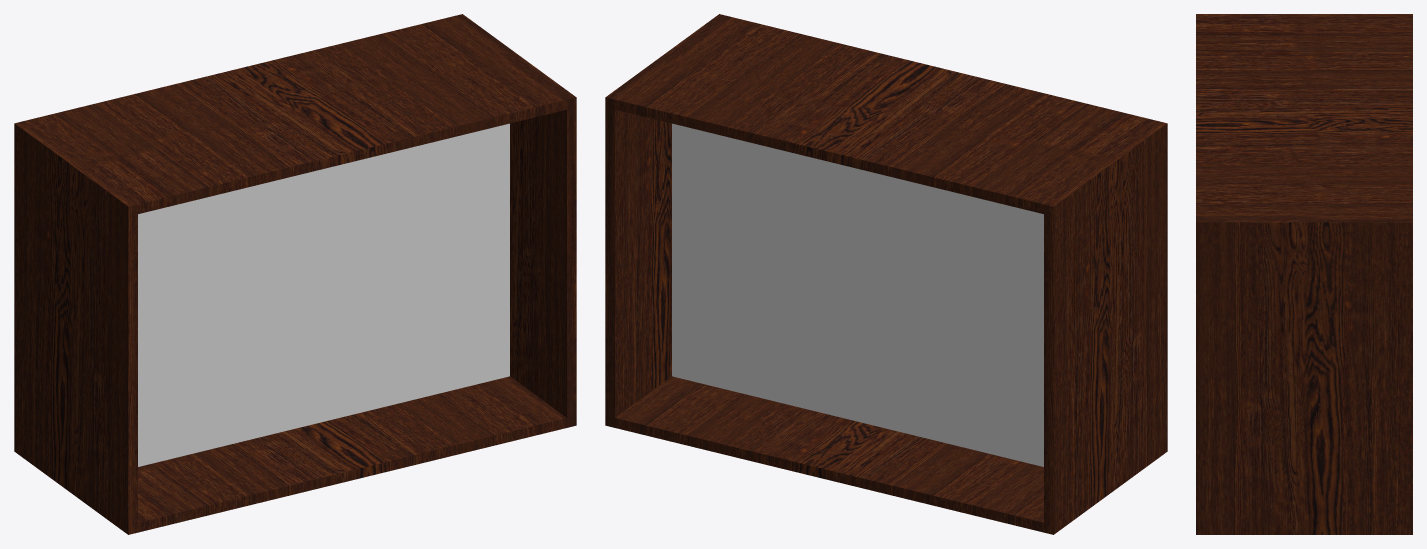
File: window_outlet.fbx
The picture shows the model from 3 angles, left to right: view 1: azimuth 30°, elevation 25°; view 2: azimuth 150°, elevation 25°; view 3: azimuth 270°, elevation 25°; orthographic projection. The views are drawn at different scales.
Parts seen in each view (by area): view 1: window_outlet, window_leaf; view 2: window_outlet, window_leaf; view 3: window_outlet.
Boxes of the visible parts, box(x1,y1,x2,y2) form: window_outlet: box(14, 14, 576, 534); window_leaf: box(138, 123, 509, 466); window_outlet: box(605, 14, 1167, 534); window_leaf: box(672, 123, 1043, 466); window_outlet: box(1196, 14, 1412, 534).
Bounding box in the file's own units: 100 × 70 × 44.
